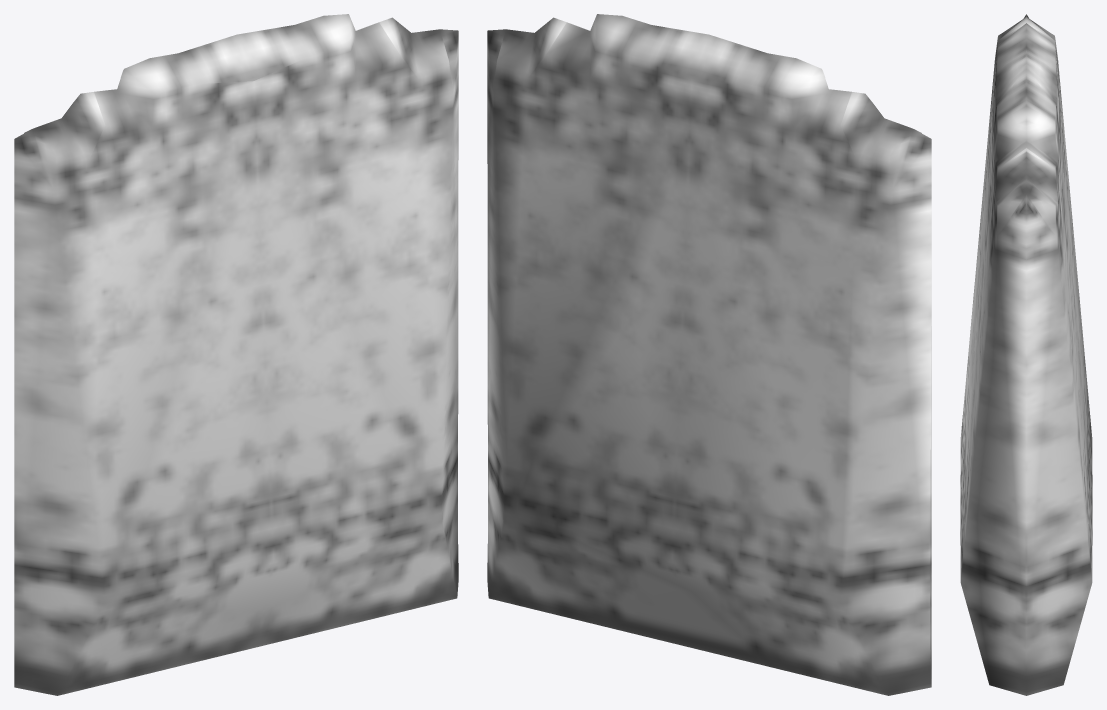
File: Ruins_BigWall008.fbx
The picture shows the model from 3 angles, left to right: view 1: azimuth 30°, elevation 25°; view 2: azimuth 150°, elevation 25°; view 3: azimuth 270°, elevation 25°; orthographic projection. The views are drawn at different scales.
Parts seen in each view (by area): view 1: Ruins_BigWall008; view 2: Ruins_BigWall008; view 3: Ruins_BigWall008.
Boxes of the visible parts, <box> form: Ruins_BigWall008: <box>14,14,458,695</box>; Ruins_BigWall008: <box>487,14,931,695</box>; Ruins_BigWall008: <box>960,14,1092,695</box>.
Bounding box in the file's own units: 263 × 339 × 76.3.
